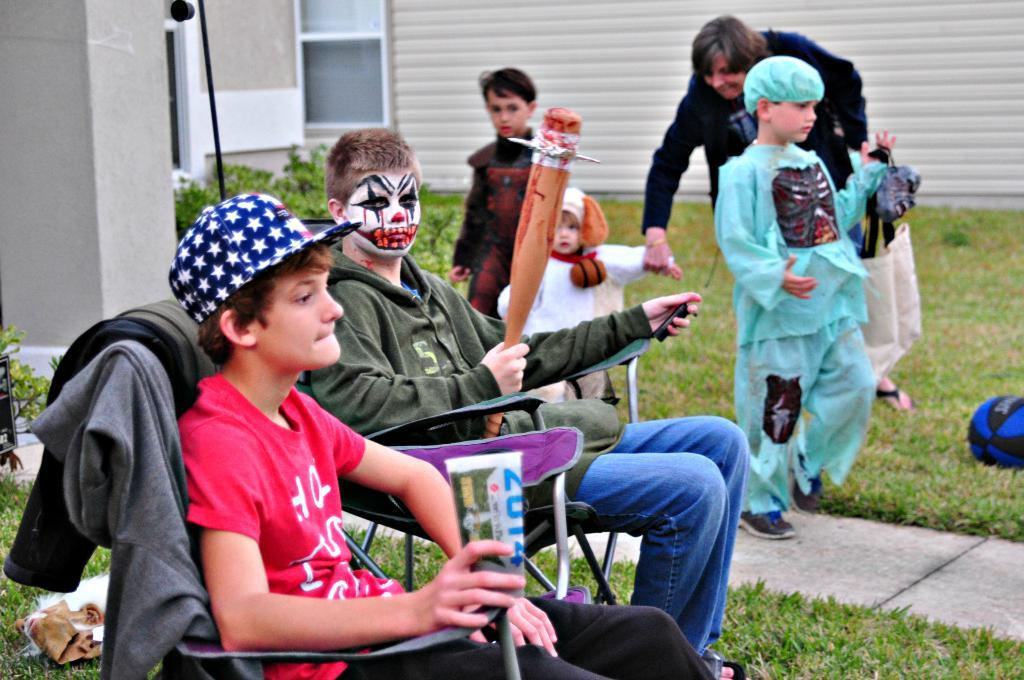Hat: (166, 192, 360, 327)
